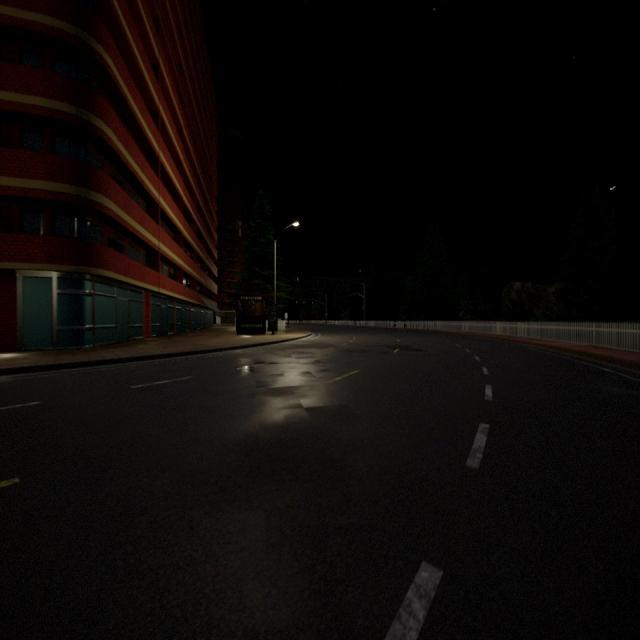traffic_light: (296, 299, 298, 304), (303, 300, 305, 303), (312, 300, 313, 304), (325, 313, 327, 315)
